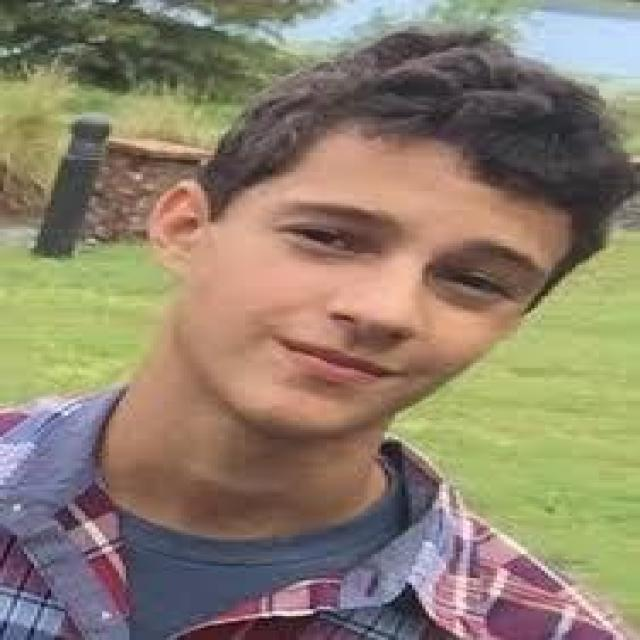person: (21, 17, 616, 609)
